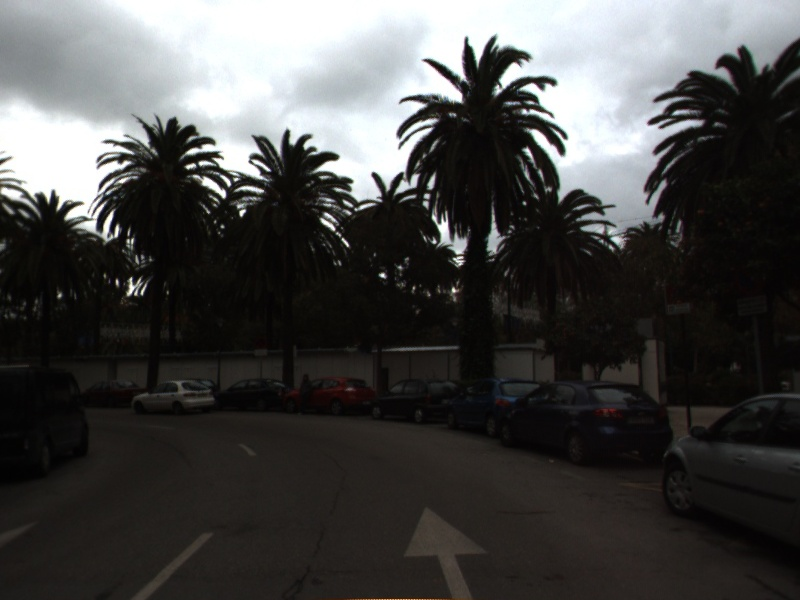STRAIGHT: (399, 500, 495, 600)
